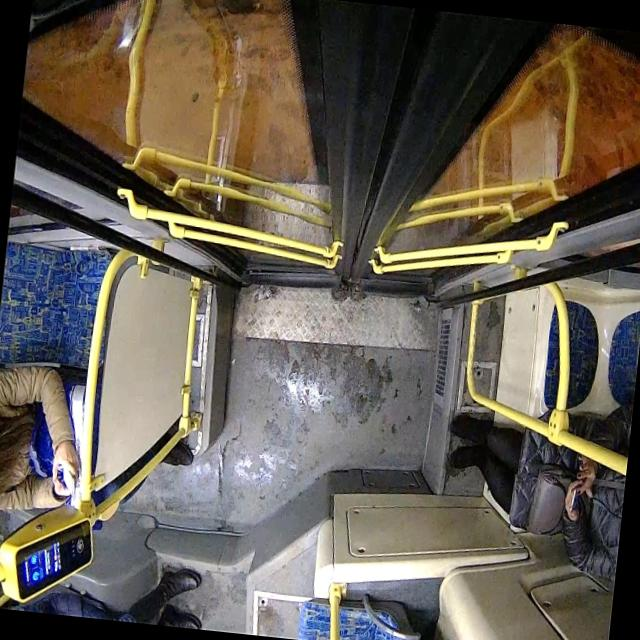bus-door: (17, 0, 640, 293)
